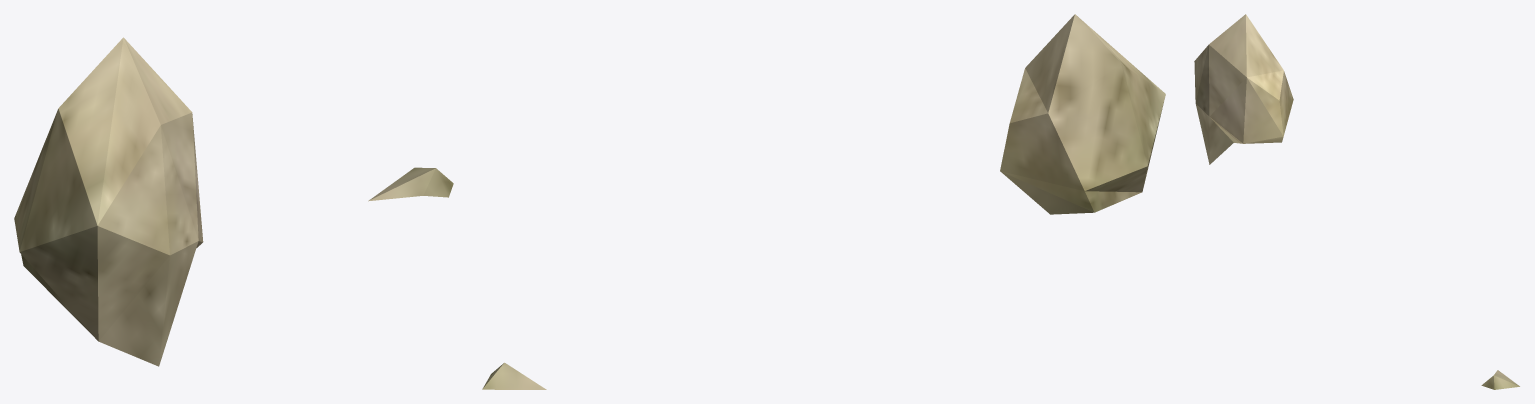
3 views of the same model, side by side, from view 1: azimuth 30°, elevation 25°; view 2: azimuth 150°, elevation 25°; view 3: azimuth 270°, elevation 25° (orthographic). The views are drawn at different scales.
Bounding box in the file's own units: 0.841 × 0.553 × 0.6961.
1 material, 1 textured.
